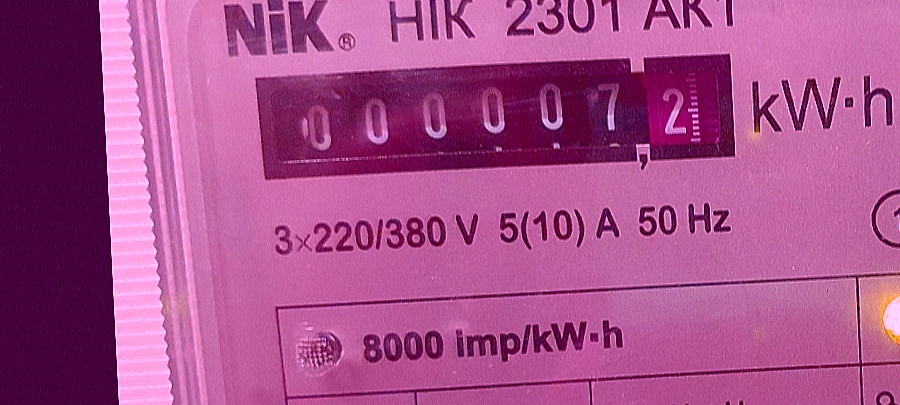0: (354, 92, 391, 146), (530, 79, 565, 133), (472, 81, 506, 136), (414, 87, 448, 141), (298, 100, 332, 152)
2: (654, 84, 687, 136)
7: (589, 77, 621, 133)
screen: (233, 33, 753, 199)
